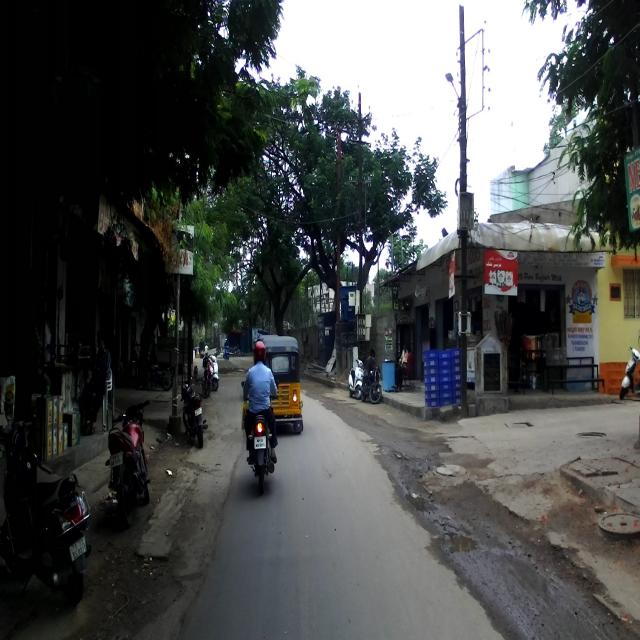autorickshaw: (252, 327, 305, 444)
motorcycle_Hero: (180, 373, 208, 449)
motorcycle_Honda: (105, 399, 151, 526), (240, 379, 280, 494)
scooter: (0, 421, 92, 609)
